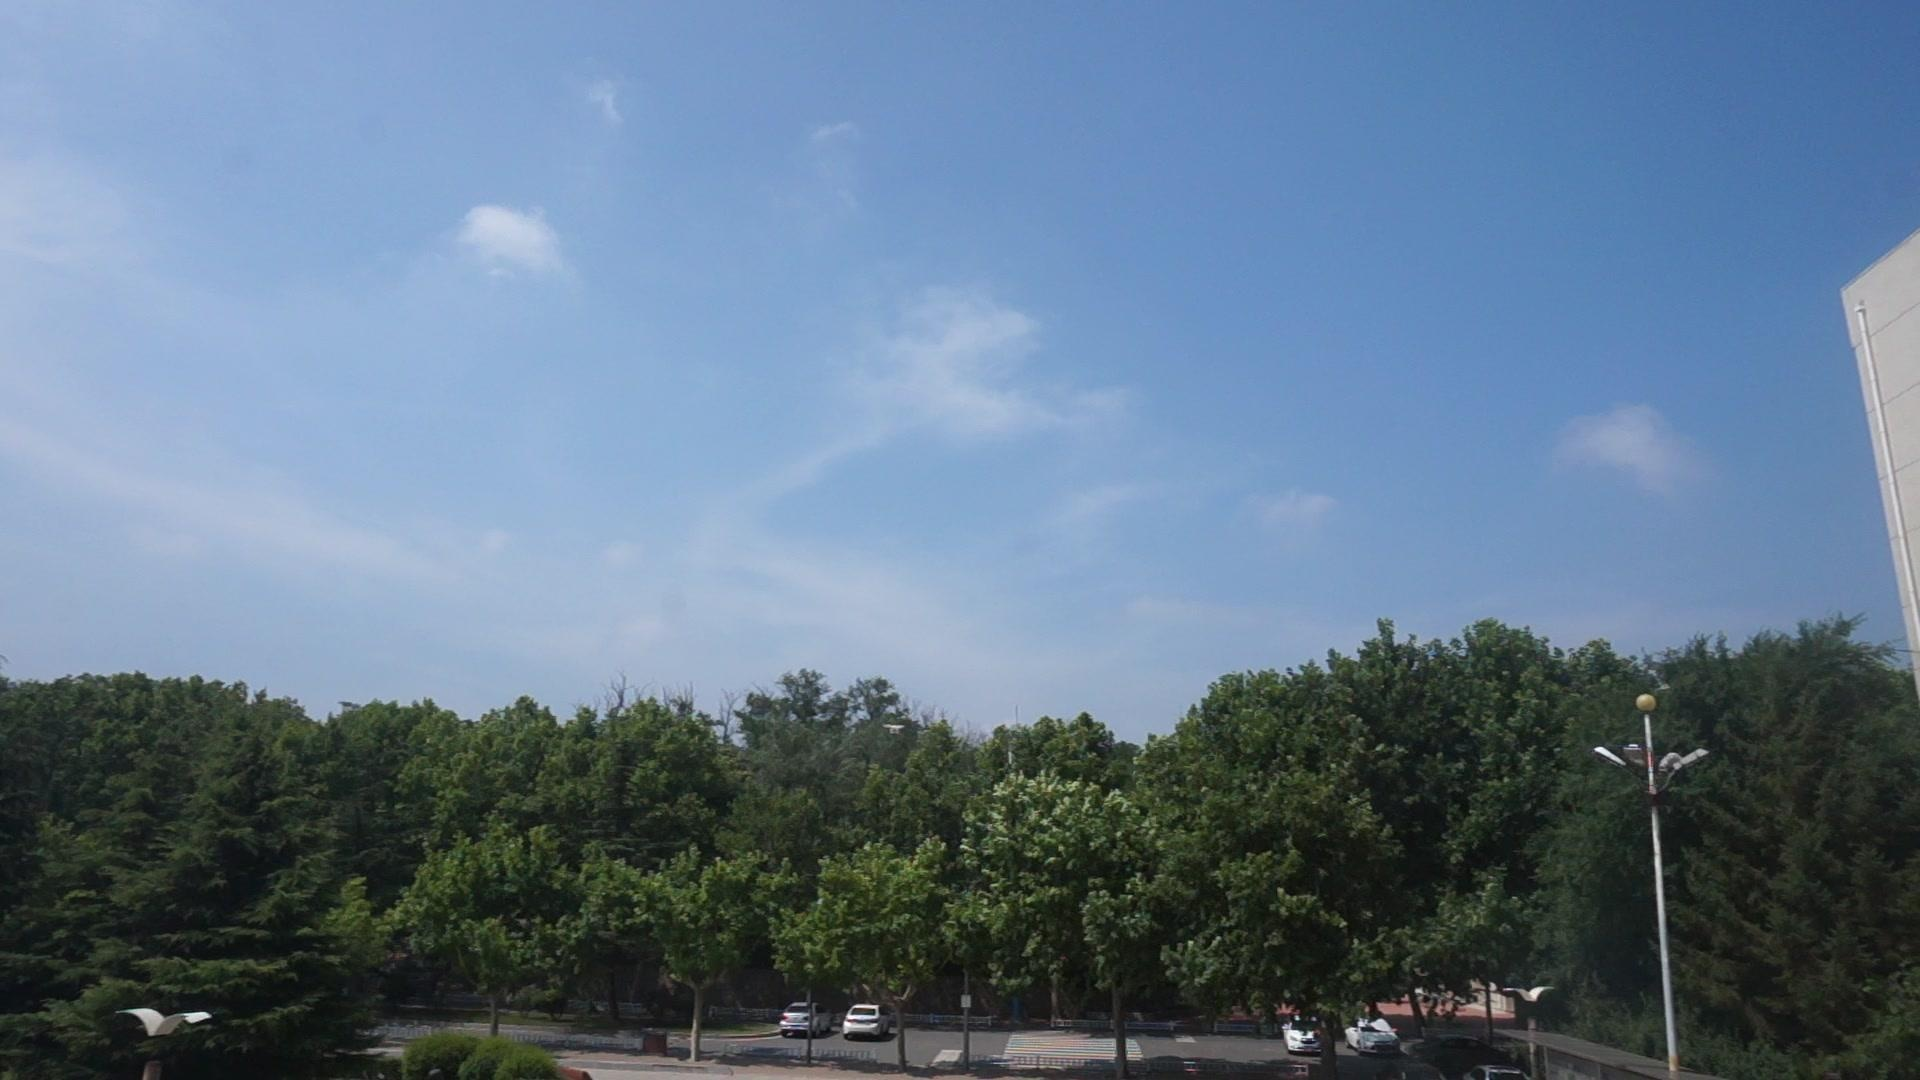UAV: (884, 725, 906, 735)
